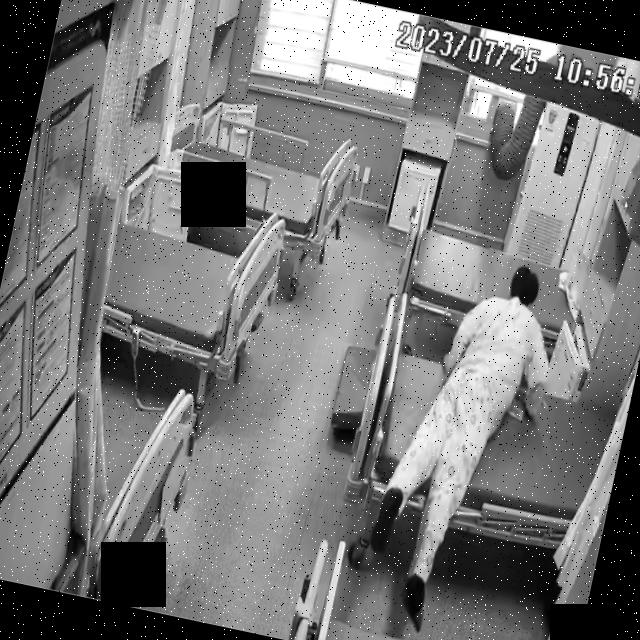bed: (338, 287, 632, 558), (388, 171, 602, 363), (96, 185, 291, 381), (170, 112, 358, 258)
danger: (355, 244, 571, 640)
patient: (357, 244, 570, 640)
